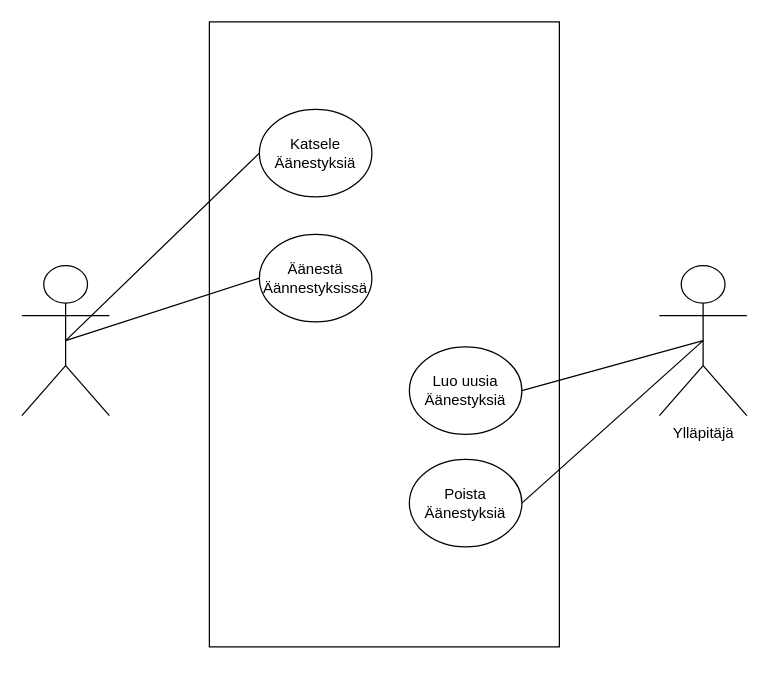
Image size: 769x679. Some labels were removed from this diagram. The box of each missing label's shape, as (x1, y1, x2, y2) in pixels:
Käyttäjä: (21, 264, 109, 416)
Äänestyssovellus: (208, 21, 559, 647)
